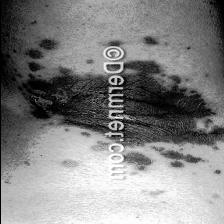Non-Cancerous Skin Condition: (1, 17, 100, 186), (136, 29, 220, 220)
